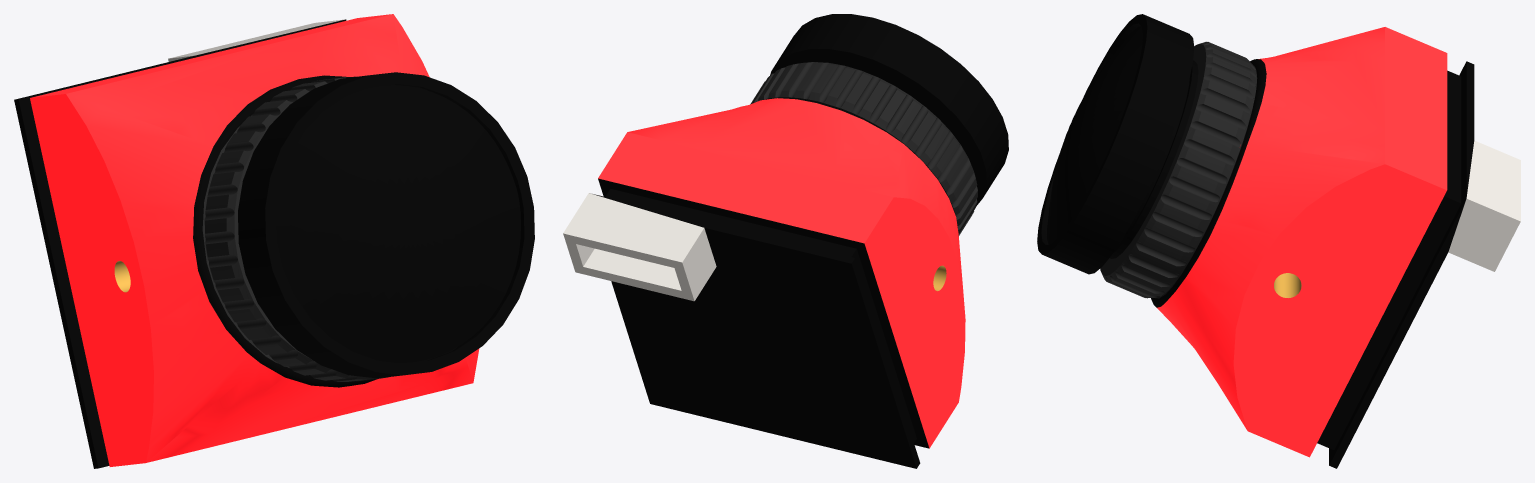
The model's file is cam.glb.
3 renders of one model, left to right at view 1: azimuth 30°, elevation 25°; view 2: azimuth 150°, elevation 25°; view 3: azimuth 270°, elevation 25°, orthographic. The views are drawn at different scales.
Visible parts, largest first — view 1: cam_joined; view 2: cam_joined; view 3: cam_joined.
Part boxes in pixels (x1,y1,x2,y2): cam_joined: [14, 14, 534, 468]; cam_joined: [563, 14, 1008, 468]; cam_joined: [1037, 14, 1520, 468].
Bounding box in the file's own units: 0.19 × 0.2406 × 0.2826.
